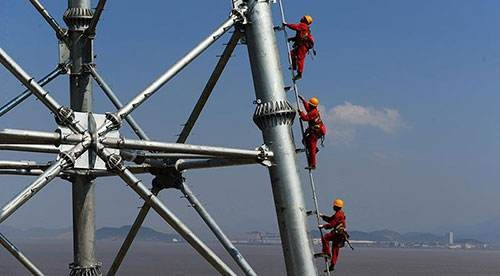yellow: (331, 195, 345, 213), (306, 94, 320, 109), (300, 13, 314, 26)
